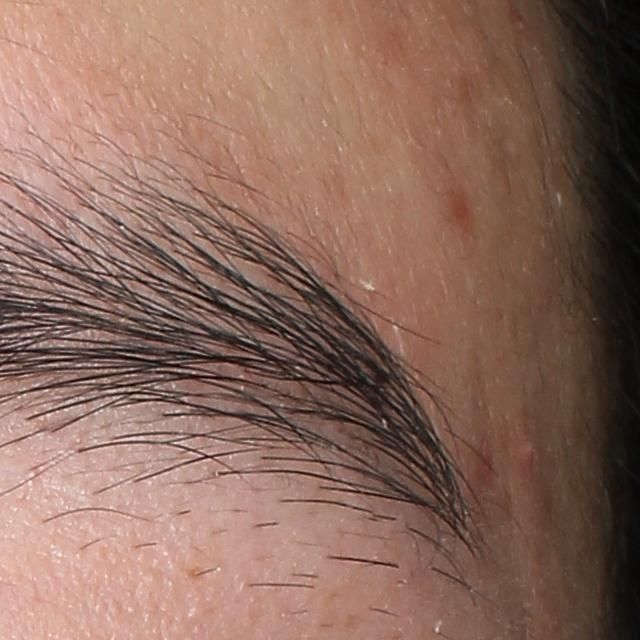papule: (511, 426, 540, 474)
